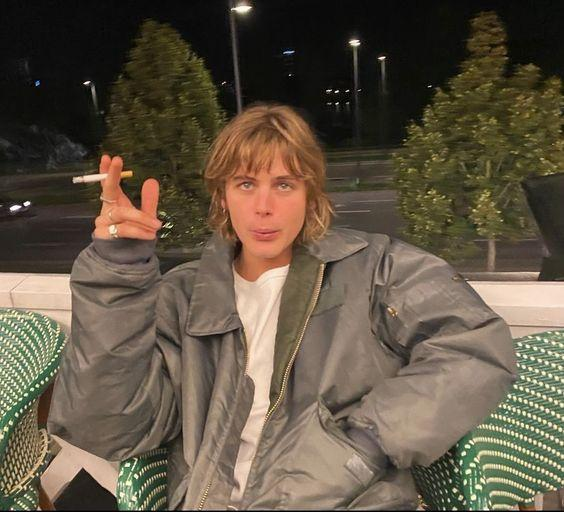cigarette: (72, 170, 133, 184)
